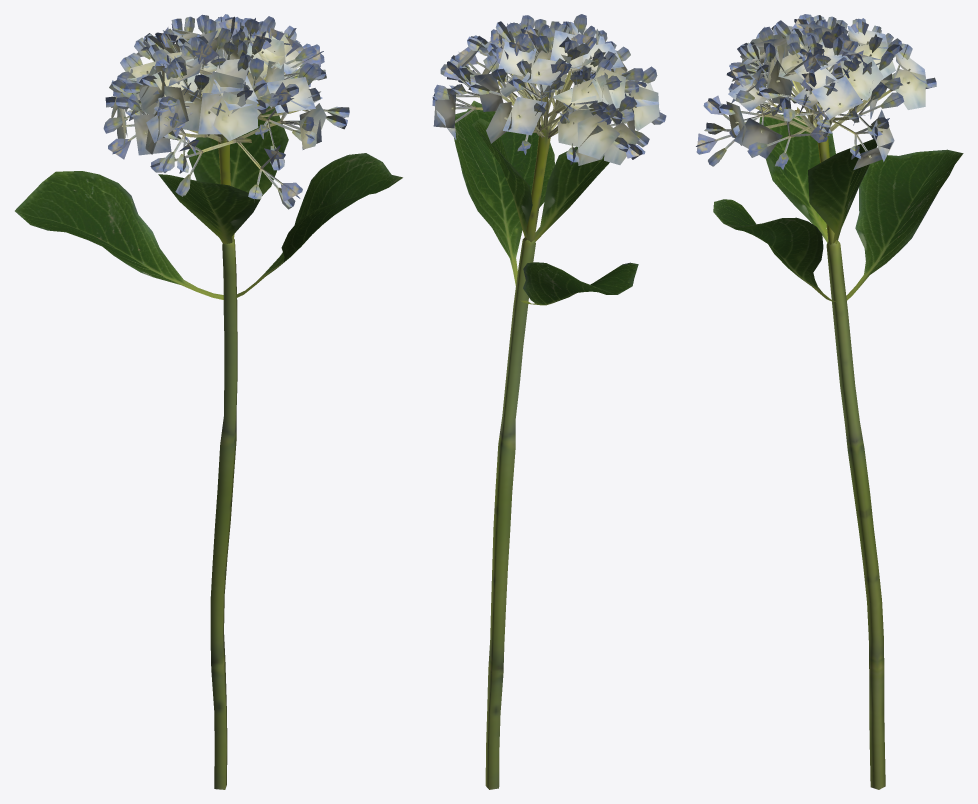
File: Hydrangea_baby_normal_lightblue.glb
3 views of the same model, side by side, from view 1: azimuth 30°, elevation 25°; view 2: azimuth 150°, elevation 25°; view 3: azimuth 270°, elevation 25° (orthographic). The views are drawn at different scales.
Visible parts, largest first — view 1: BABY; view 2: BABY; view 3: BABY.
Part boxes in pixels (<box>): BABY: <box>15,14,402,789</box>; BABY: <box>432,14,666,789</box>; BABY: <box>696,14,963,789</box>.
Bounding box in the file's own units: 0.7928 × 2.22 × 0.7195.
Materials: 1 (1 with a texture image).
